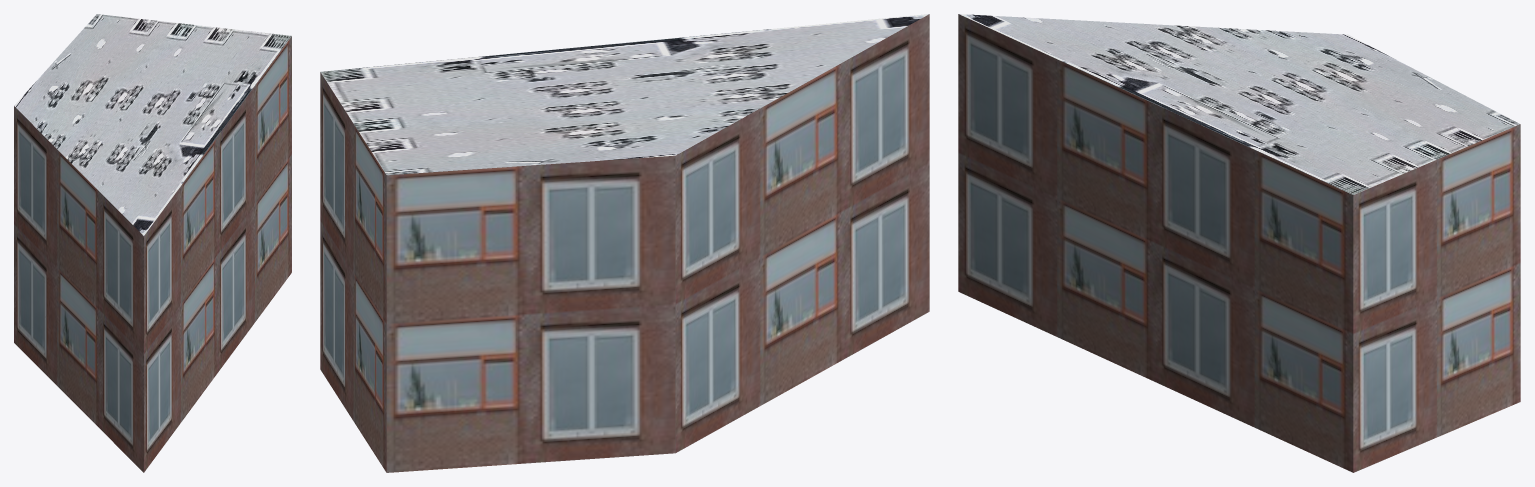
Rendered from ResTex__3951.fbx.
3 renders of one model, left to right at view 1: azimuth 30°, elevation 25°; view 2: azimuth 150°, elevation 25°; view 3: azimuth 270°, elevation 25°, orthographic. The views are drawn at different scales.
Parts seen in each view (by area): view 1: CityEngineMaterial_19_m, CityEngineMaterial_15_m; view 2: CityEngineMaterial_19_m, CityEngineMaterial_15_m; view 3: CityEngineMaterial_19_m, CityEngineMaterial_15_m.
Boxes of the visible parts, x1,y1,x2,y2 form: CityEngineMaterial_19_m: (14,36,291,472); CityEngineMaterial_15_m: (14,14,291,235); CityEngineMaterial_19_m: (320,14,929,472); CityEngineMaterial_15_m: (320,14,928,175); CityEngineMaterial_19_m: (958,14,1520,472); CityEngineMaterial_15_m: (959,14,1519,194).
Size of the model in its own units: 8.39 by 6 by 11.
2 materials, 2 textured.
